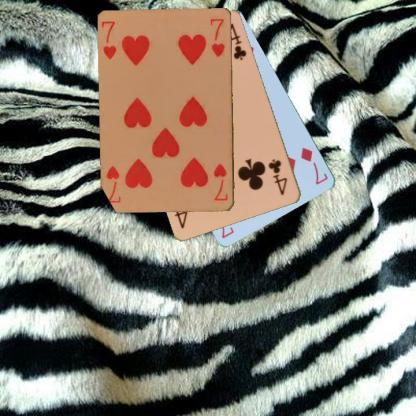4c: (266, 156, 289, 197)
7d: (298, 144, 330, 186)
7h: (211, 161, 230, 202), (100, 19, 118, 62)
